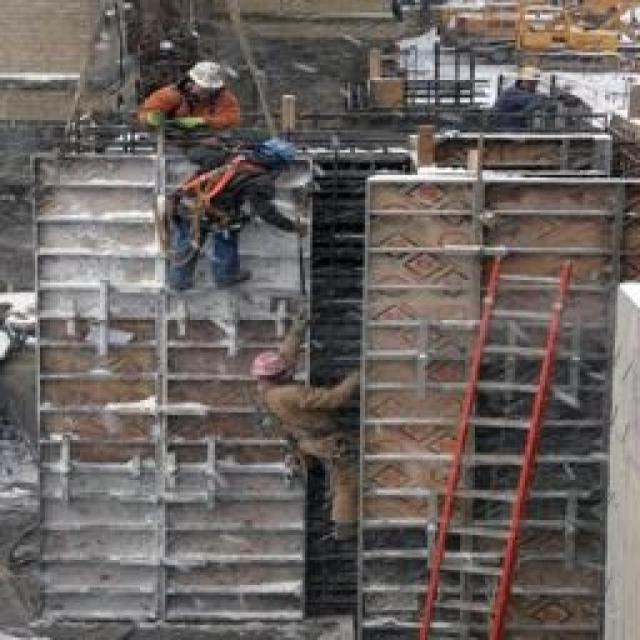Helmet: (256, 380, 364, 476), (140, 70, 266, 134), (192, 132, 252, 226), (172, 42, 238, 110), (238, 339, 306, 405), (472, 84, 564, 132), (255, 120, 303, 200), (510, 55, 548, 100)
